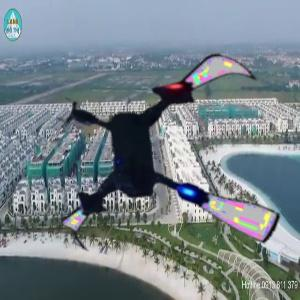drone: (47, 28, 300, 281)
